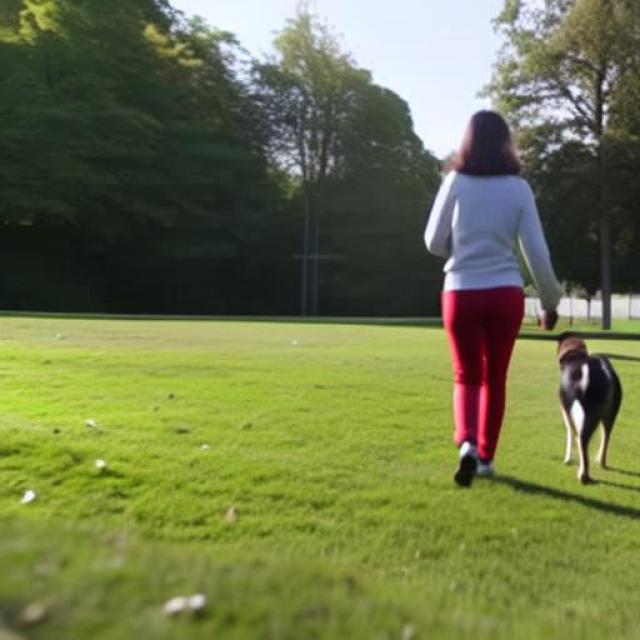Unleashed_Dog: (447, 270, 624, 486)
